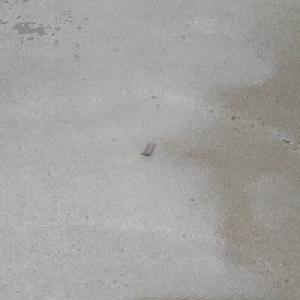MetalPart: (137, 142, 155, 156)
